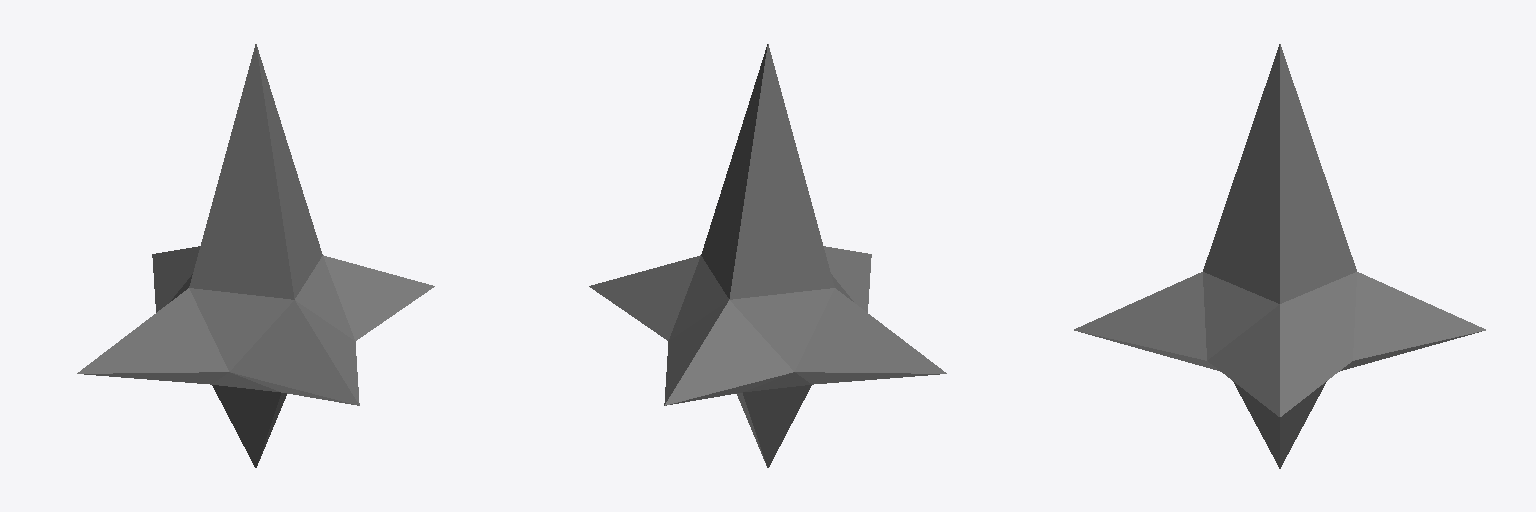
File: Disgust_fly.obj
3 views of the same model, side by side, from view 1: azimuth 30°, elevation 25°; view 2: azimuth 150°, elevation 25°; view 3: azimuth 270°, elevation 25° (orthographic).
Visible parts, largest first — view 1: Disgust_fly:group_Disgust_fly:pasted__pCube1_Disgust_fly:po.000; view 2: Disgust_fly:group_Disgust_fly:pasted__pCube1_Disgust_fly:po.000; view 3: Disgust_fly:group_Disgust_fly:pasted__pCube1_Disgust_fly:po.000.
Boxes of the visible parts, box(x1,y1,x2,y2) form: Disgust_fly:group_Disgust_fly:pasted__pCube1_Disgust_fly:po.000: box(77, 44, 434, 467); Disgust_fly:group_Disgust_fly:pasted__pCube1_Disgust_fly:po.000: box(589, 44, 946, 467); Disgust_fly:group_Disgust_fly:pasted__pCube1_Disgust_fly:po.000: box(1074, 44, 1485, 468).
Size of the model in its own units: 2.41 by 2.73 by 2.41.